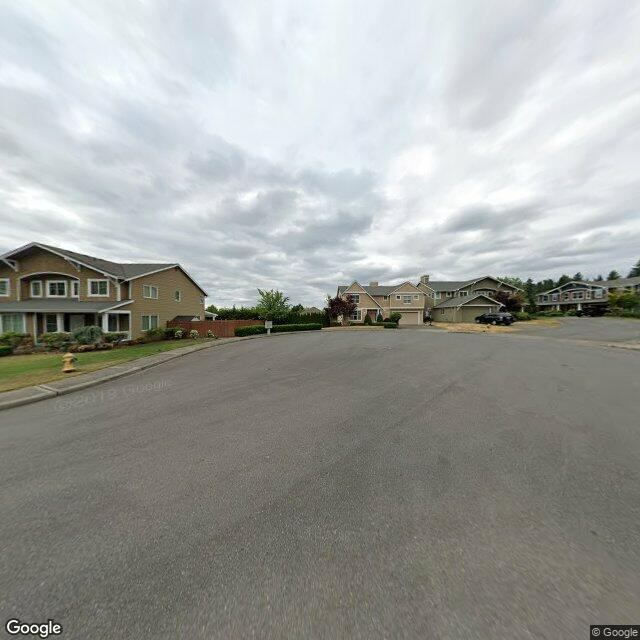hydrant: (46, 346, 85, 376)
